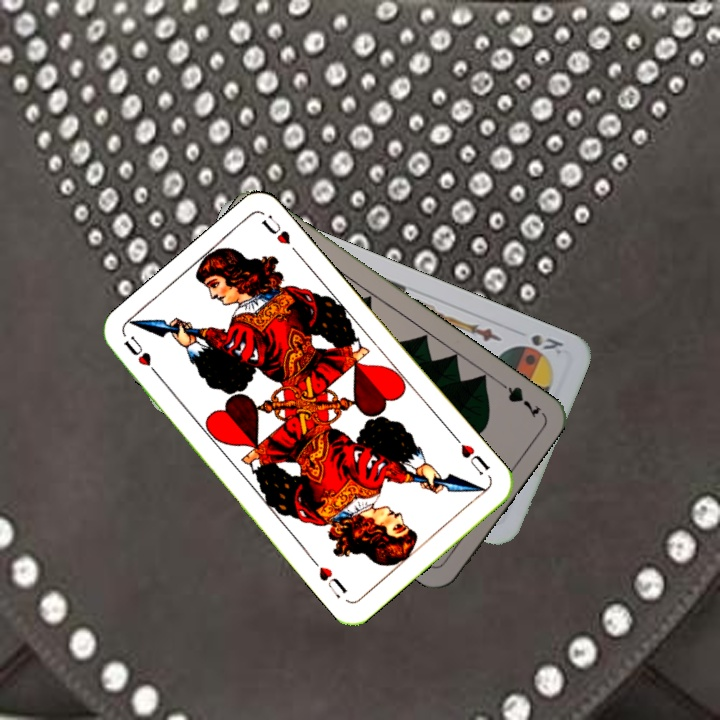G7: (493, 375, 544, 420)
HU: (119, 331, 164, 381), (450, 432, 493, 478)
SK: (527, 330, 566, 358)
